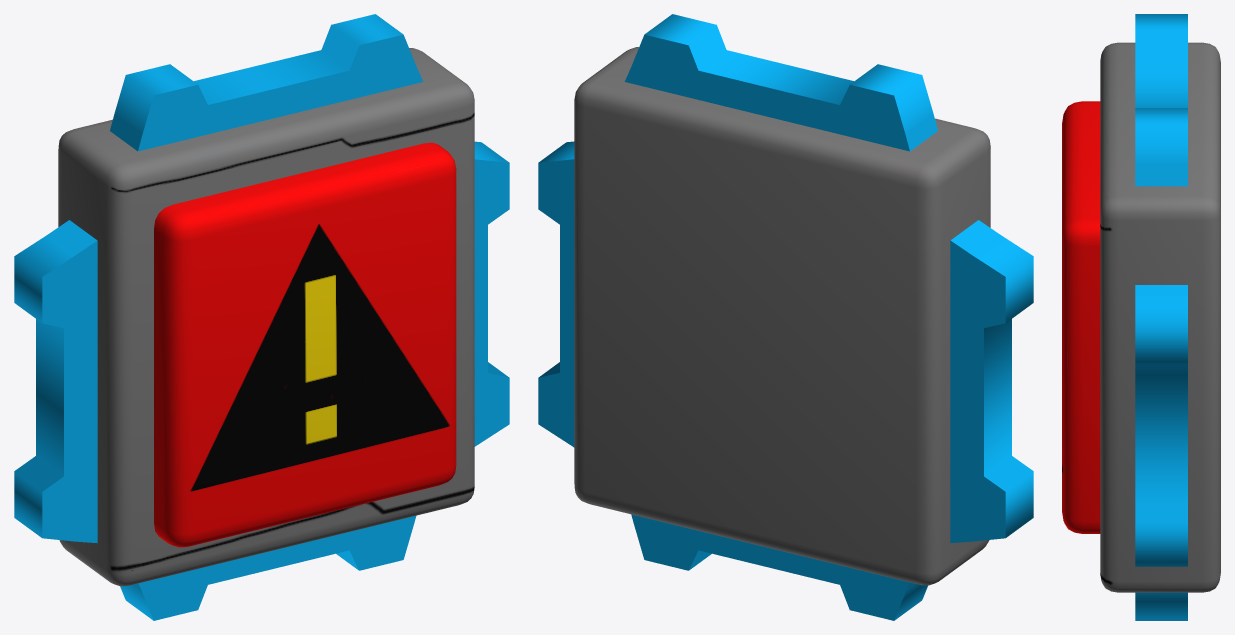
The model's file is Sci-fi panel.fbx.
3 renders of one model, left to right at view 1: azimuth 30°, elevation 25°; view 2: azimuth 150°, elevation 25°; view 3: azimuth 270°, elevation 25°, orthographic. The views are drawn at different scales.
Parts seen in each view (by area): view 1: Front, Base, Sidepiece003, Sidepiece002, Sidepiece001, Sidepiece004; view 2: Base, Sidepiece003, Sidepiece002, Sidepiece001, Sidepiece004; view 3: Base, Front, Sidepiece004, Sidepiece002, Sidepiece001.
Part boxes in pixels (bbox=[...]): Front: bbox=[154, 142, 456, 547]; Base: bbox=[58, 48, 474, 586]; Sidepiece003: bbox=[14, 220, 97, 543]; Sidepiece002: bbox=[110, 14, 423, 151]; Sidepiece001: bbox=[120, 516, 416, 620]; Sidepiece004: bbox=[474, 141, 509, 446]; Base: bbox=[574, 47, 990, 585]; Sidepiece003: bbox=[950, 220, 1033, 543]; Sidepiece002: bbox=[624, 14, 937, 151]; Sidepiece001: bbox=[631, 514, 927, 620]; Sidepiece004: bbox=[538, 141, 574, 447]; Base: bbox=[1100, 42, 1220, 592]; Front: bbox=[1062, 101, 1100, 533]; Sidepiece004: bbox=[1135, 285, 1187, 566]; Sidepiece002: bbox=[1135, 14, 1187, 186]; Sidepiece001: bbox=[1135, 592, 1187, 620].
Bounding box in the file's own units: 19.21 × 20.63 × 6.02.
1 material, 1 textured.
